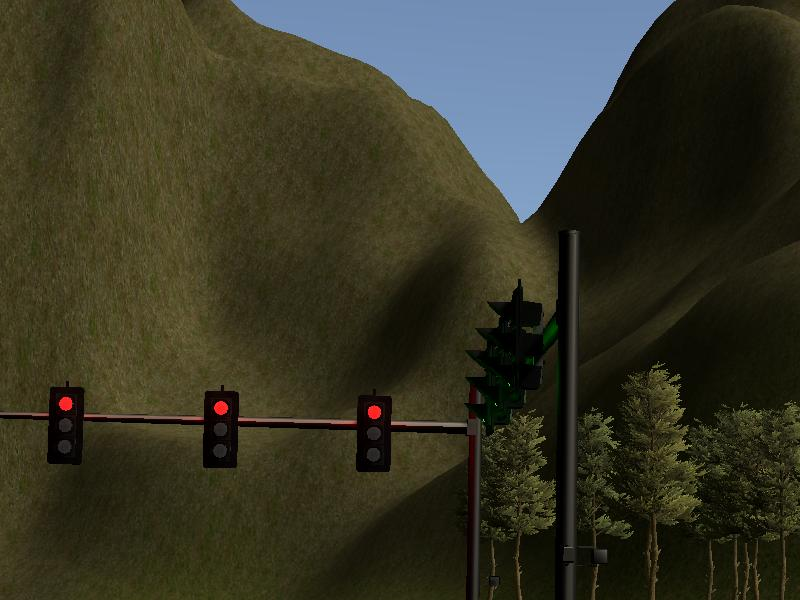Red: (356, 396, 390, 471), (203, 392, 236, 467), (49, 387, 81, 463)
